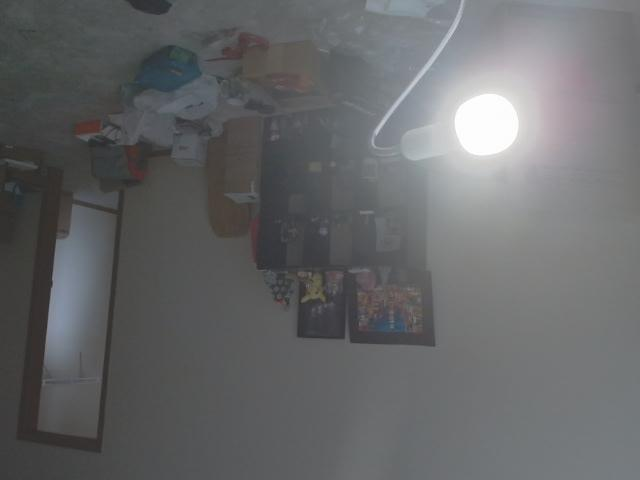TubeLight: (420, 90, 519, 156)
